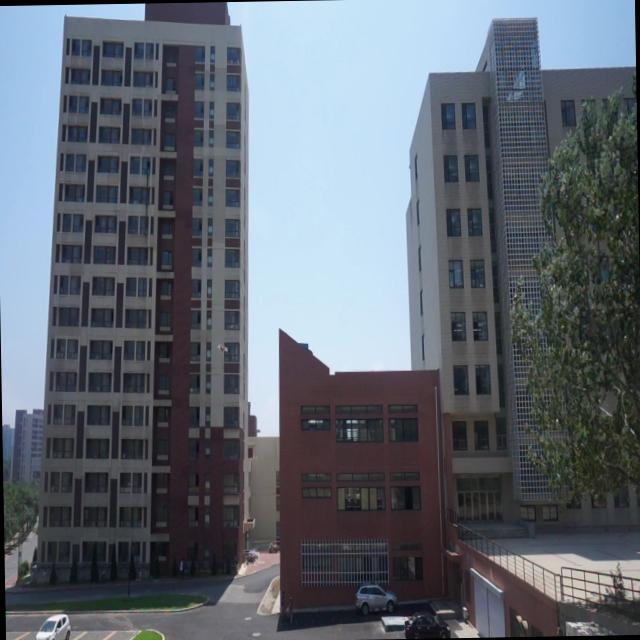drone: (216, 338, 232, 360)
